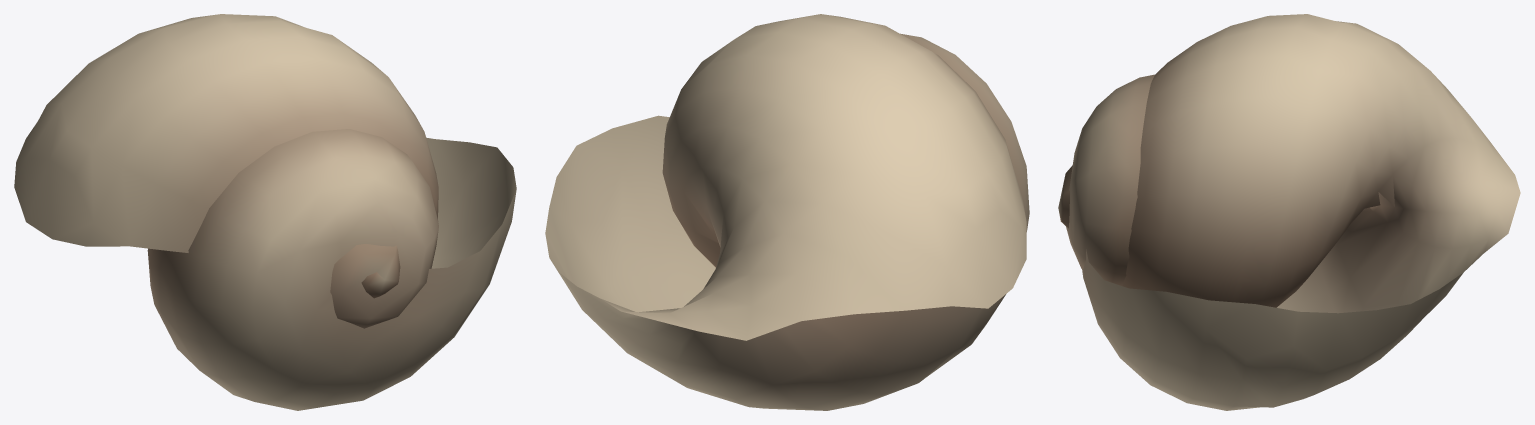
File: underwater-shells-round-snail-shell_v1.fbx
3 views of the same model, side by side, from view 1: azimuth 30°, elevation 25°; view 2: azimuth 150°, elevation 25°; view 3: azimuth 270°, elevation 25° (orthographic). The views are drawn at different scales.
Visible parts, largest first — view 1: Round Snail Shell; view 2: Round Snail Shell; view 3: Round Snail Shell.
Boxes of the visible parts, <box> form: Round Snail Shell: <box>14,14,516,410</box>; Round Snail Shell: <box>545,14,1029,410</box>; Round Snail Shell: <box>1058,14,1520,410</box>.
Size of the model in its own units: 0.06 by 0.0484 by 0.0598.
